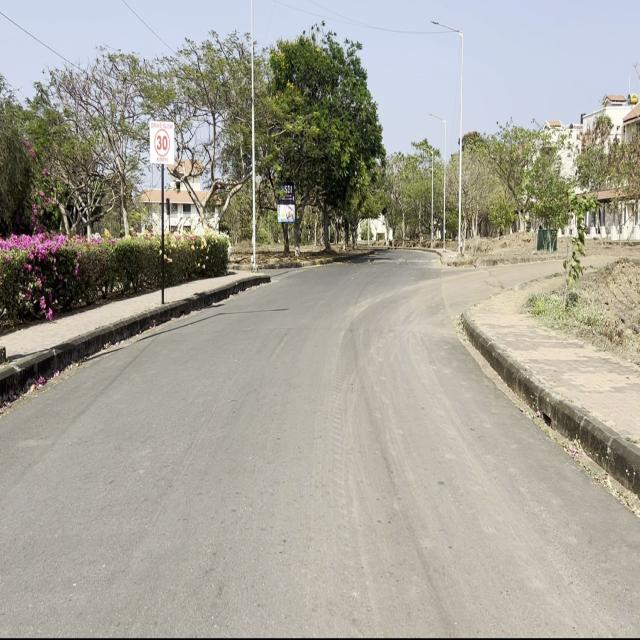Road: (3, 259, 635, 632)
